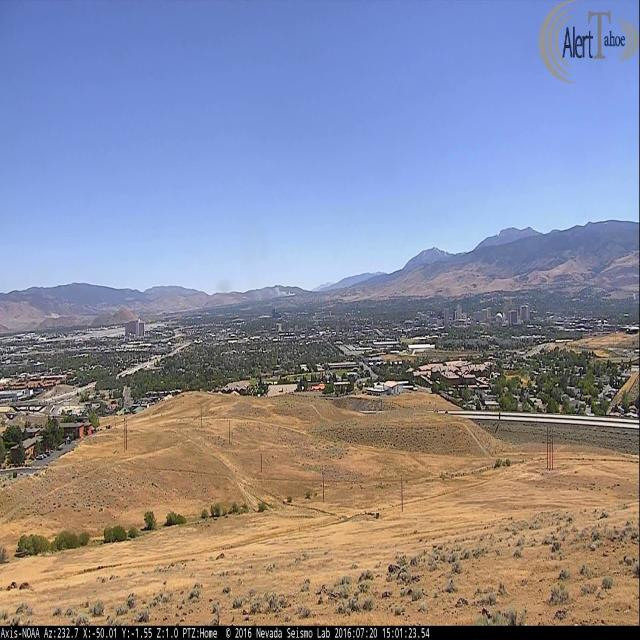smoke: (268, 284, 296, 298)
